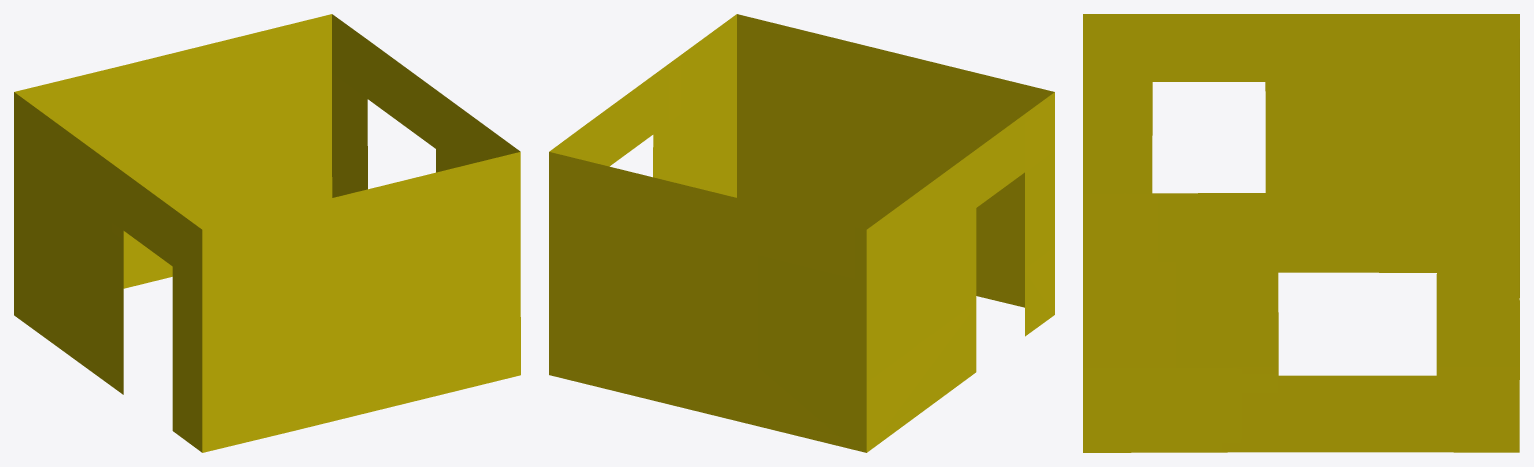
3 renders of one model, left to right at view 1: azimuth 30°, elevation 25°; view 2: azimuth 150°, elevation 25°; view 3: azimuth 270°, elevation 25°, orthographic. The views are drawn at different scales.
Visible parts, largest first — view 1: BH04B_WP_12; view 2: BH04B_WP_12; view 3: BH04B_WP_12.
Part boxes in pixels (x1,y1,x2,y2): BH04B_WP_12: (14,14,520,452); BH04B_WP_12: (549,14,1054,452); BH04B_WP_12: (1083,14,1519,452).
Size of the model in its own units: 447 by 301 by 458.
